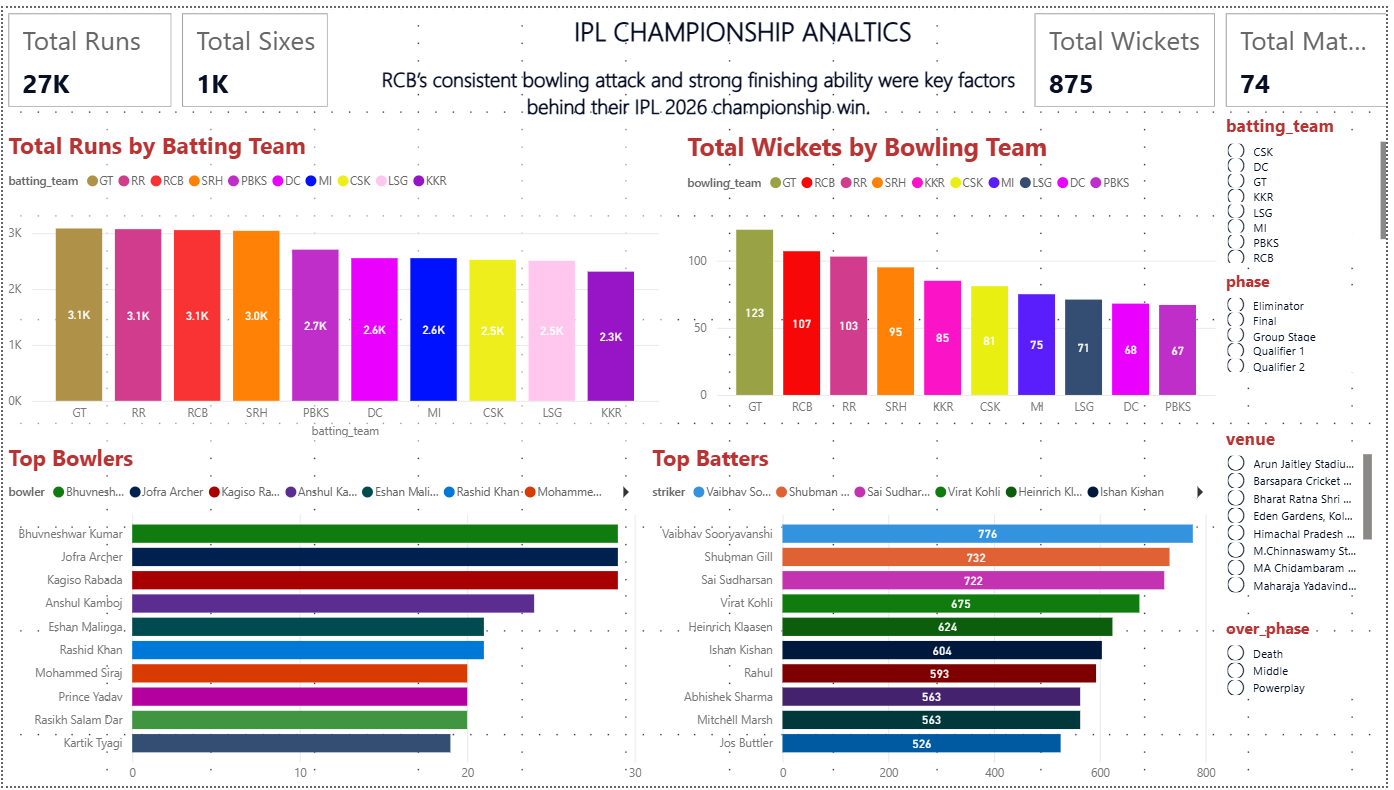

What the dashboard file says about the page in this screenshot:
{"tool":"powerbi","page":{"name":"ipl 2026 analysis","canvas":[1280,720],"ordinal":0},"visuals":[{"type":"cardVisual","fields":{"Data":["Sum(ipl_2026_cleaned.total_runs)"]},"box":[0,0,176,96],"z":0},{"type":"cardVisual","fields":{"Data":["ipl_2026_cleaned.total_wickets"]},"box":[944,0,176,96],"z":1000},{"type":"cardVisual","fields":{"Data":["ipl_2026_cleaned.total_sixes"]},"box":[160,0,144,96],"z":2000},{"type":"cardVisual","fields":{"Data":["ipl_2026_cleaned.total_matches"]},"box":[1120,0,160,112],"z":3000},{"type":"columnChart","title":"Total Runs by Batting Team","fields":{"Category":["ipl_2026_cleaned.batting_team"],"Y":["Sum(ipl_2026_cleaned.total_runs)"],"Series":["ipl_2026_cleaned.batting_team"]},"box":[0,112,608,288],"z":4000},{"type":"columnChart","title":"Total Wickets by Bowling Team","fields":{"Category":["ipl_2026_cleaned.bowling_team"],"Y":["ipl_2026_cleaned.total_wickets"],"Series":["ipl_2026_cleaned.bowling_team"]},"box":[624,128,496,272],"z":5000},{"type":"barChart","title":"Top Batters","fields":{"Category":["ipl_2026_cleaned.striker"],"Y":["Sum(ipl_2026_cleaned.runs_of_bat)"]},"box":[592,416,528,304],"z":6000},{"type":"barChart","title":"Top Bowlers","fields":{"Category":["ipl_2026_cleaned.bowler"],"Y":["Sum(ipl_2026_cleaned.is_wicket)"]},"box":[0,400,592,320],"z":7000},{"type":"listSlicer","fields":{"Values":["ipl_2026_cleaned.batting_team"]},"box":[1120,112,160,128],"z":8000},{"type":"listSlicer","fields":{"Values":["ipl_2026_cleaned.venue"]},"box":[1120,432,160,128],"z":9000},{"type":"listSlicer","fields":{"Values":["ipl_2026_cleaned.over_phase"]},"box":[1120,576,160,144],"z":10000},{"type":"listSlicer","fields":{"Values":["ipl_2026_cleaned.phase"]},"box":[1120,256,160,176],"z":11000},{"type":"textbox","box":[480,0,400,48],"z":12000},{"type":"textbox","box":[320,48,640,64],"z":13000}]}

Visuals, with their boxes in screenshot pixels (x1, y1, x2, y2), scaled from the page's 1280x720 canvas onto the 1394x790 screenshot:
cardVisual - Sum(ipl_2026_cleaned.total_runs): 0/0/192/105
cardVisual - ipl_2026_cleaned.total_wickets: 1028/0/1220/105
cardVisual - ipl_2026_cleaned.total_sixes: 174/0/331/105
cardVisual - ipl_2026_cleaned.total_matches: 1220/0/1393/123
"Total Runs by Batting Team" columnChart: 0/123/662/439
"Total Wickets by Bowling Team" columnChart: 680/140/1220/439
"Top Batters" barChart: 645/456/1220/789
"Top Bowlers" barChart: 0/439/645/789
listSlicer - ipl_2026_cleaned.batting_team: 1220/123/1393/263
listSlicer - ipl_2026_cleaned.venue: 1220/474/1393/614
listSlicer - ipl_2026_cleaned.over_phase: 1220/632/1393/789
listSlicer - ipl_2026_cleaned.phase: 1220/281/1393/474
textbox: 523/0/958/53
textbox: 348/53/1046/123
